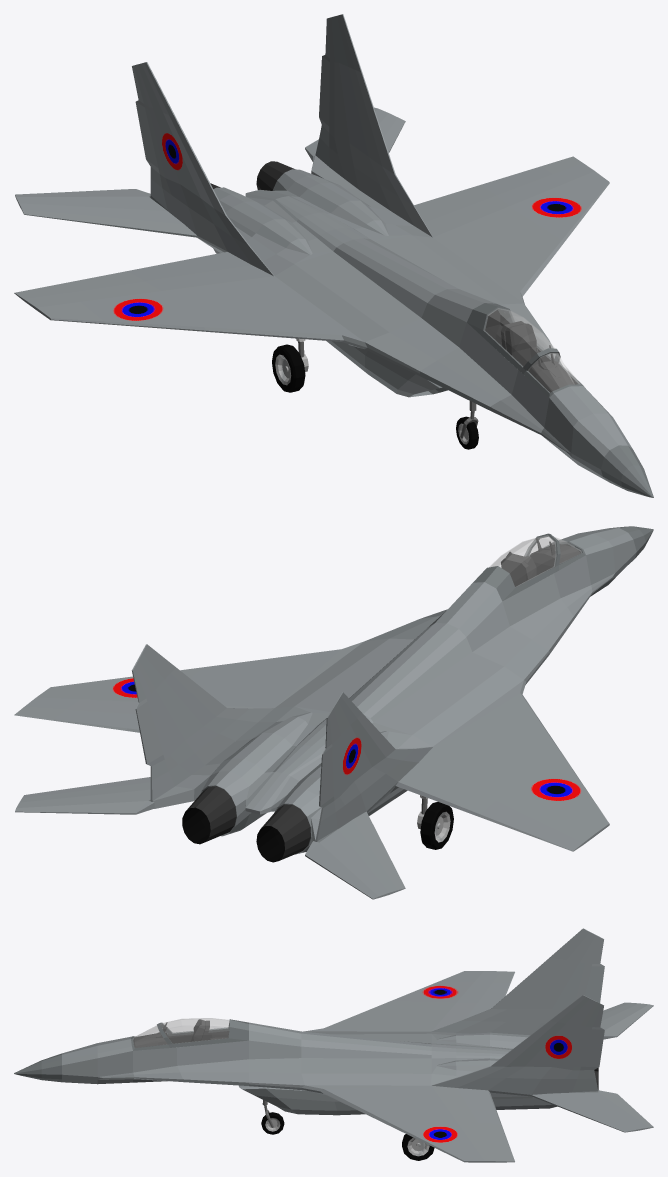
3 renders of one model, top to bottom at view 1: azimuth 30°, elevation 25°; view 2: azimuth 150°, elevation 25°; view 3: azimuth 270°, elevation 25°, orthographic. The views are drawn at different scales.
Parts seen in each view (by area): view 1: Circle, R_elevator, Wwindshield, R_Flap, Landing gear_RR, L_Flap, L_Rudder, R_Rudder, R_ailerone, L_ailerone, L_Elevator, Landing gear_F; view 2: Circle, R_elevator, L_Elevator, Wwindshield, R_Flap, L_Rudder, Landing gear_RR, R_ailerone, L_ailerone, R_Rudder; view 3: Circle, Wwindshield, L_Elevator, R_elevator, L_Rudder, L_Flap, R_Rudder, Landing gear_RL, L_ailerone, Landing gear_F, R_ailerone.
Part boxes in pixels (bbox=[...]): Circle: bbox=[14, 14, 653, 497]; R_elevator: bbox=[15, 189, 197, 237]; Wwindshield: bbox=[467, 303, 583, 397]; R_Flap: bbox=[127, 252, 251, 281]; Landing gear_RR: bbox=[272, 338, 308, 392]; L_Flap: bbox=[414, 185, 495, 222]; L_Rudder: bbox=[319, 54, 334, 136]; R_Rudder: bbox=[135, 100, 165, 177]; R_ailerone: bbox=[54, 271, 143, 292]; L_ailerone: bbox=[481, 166, 552, 195]; L_Elevator: bbox=[305, 107, 405, 162]; Landing gear_F: bbox=[456, 401, 478, 449]; Circle: bbox=[14, 526, 653, 862]; R_elevator: bbox=[305, 811, 405, 899]; L_Elevator: bbox=[15, 777, 154, 814]; Wwindshield: bbox=[473, 533, 585, 601]; R_Flap: bbox=[395, 763, 495, 816]; L_Rudder: bbox=[135, 695, 170, 766]; Landing gear_RR: bbox=[417, 795, 453, 849]; R_ailerone: bbox=[479, 800, 552, 839]; L_ailerone: bbox=[53, 709, 137, 730]; R_Rudder: bbox=[319, 740, 339, 807]; Circle: bbox=[14, 928, 603, 1162]; Wwindshield: bbox=[131, 1018, 248, 1050]; L_Elevator: bbox=[531, 1090, 653, 1132]; R_elevator: bbox=[600, 1002, 653, 1039]; L_Rudder: bbox=[572, 1027, 604, 1070]; L_Flap: bbox=[457, 1088, 501, 1124]; R_Rudder: bbox=[576, 964, 604, 1002]; Landing gear_RL: bbox=[402, 1134, 434, 1160]; L_ailerone: bbox=[478, 1122, 510, 1148]; Landing gear_F: bbox=[261, 1100, 284, 1134]; R_ailerone: bbox=[478, 982, 510, 1003].
Size of the model in its own units: 1071 by 454 by 1525.
